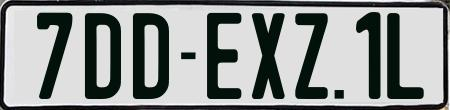1: (354, 11, 384, 104)
7: (37, 11, 73, 101)
D: (85, 13, 127, 103), (130, 13, 167, 101)
E: (205, 11, 244, 98)
L: (386, 11, 426, 99)
X: (249, 10, 283, 98)
Z: (295, 11, 333, 99)
